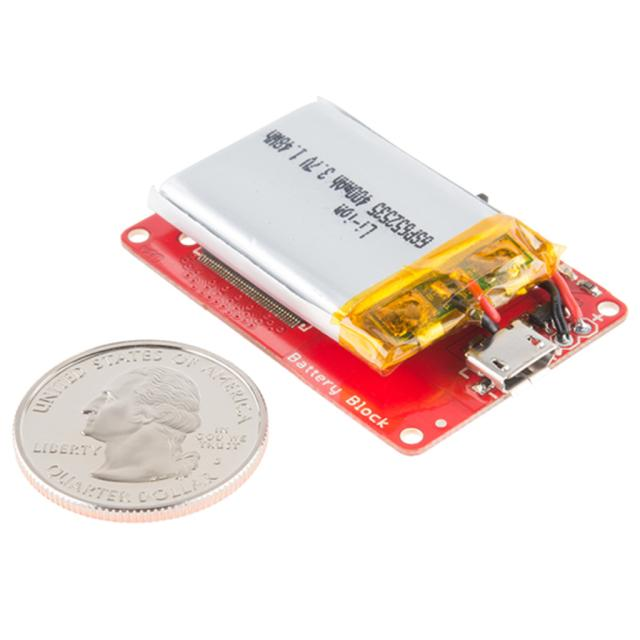Coin: (10, 336, 268, 519)
